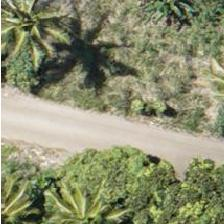Kelapa_Sawit: (0, 0, 63, 62), (0, 169, 56, 224)
